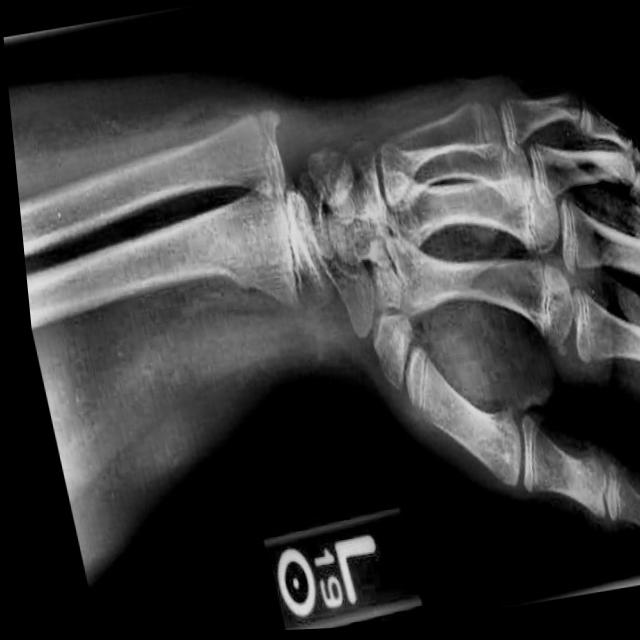fracture: (253, 132, 275, 187), (529, 266, 548, 298), (515, 181, 531, 217)
